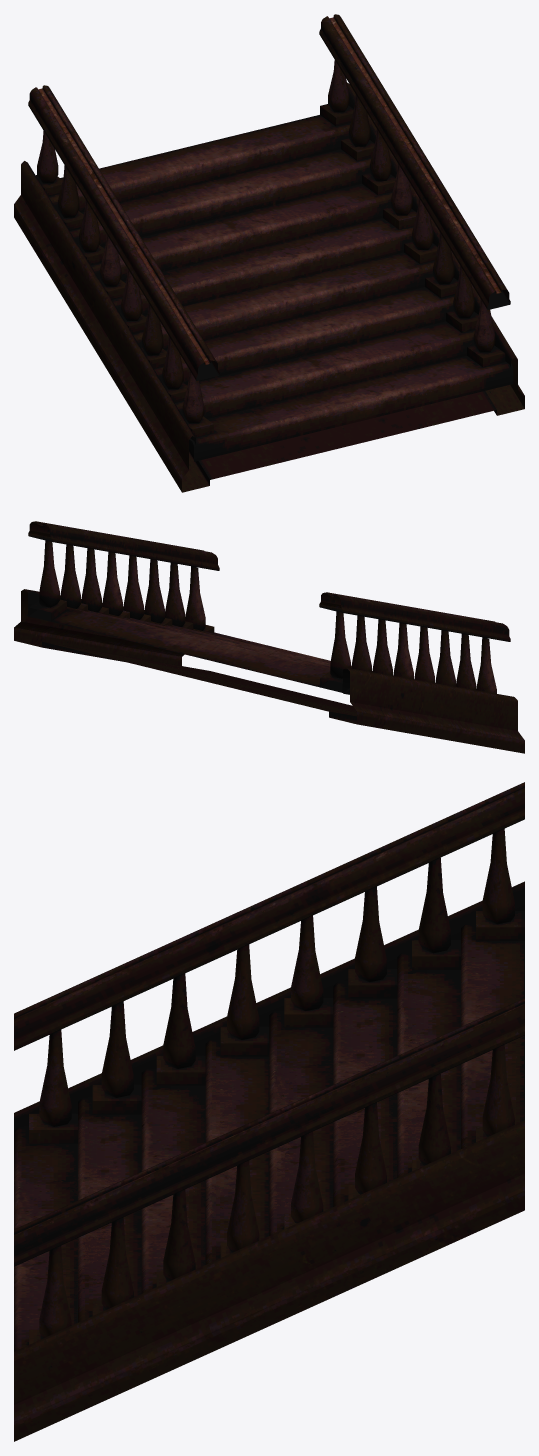
The picture shows the model from 3 angles, top to bottom: view 1: azimuth 30°, elevation 25°; view 2: azimuth 150°, elevation 25°; view 3: azimuth 270°, elevation 25°; orthographic projection. The views are drawn at different scales.
Parts seen in each view (by area): view 1: mansionbase_stairs; view 2: mansionbase_stairs; view 3: mansionbase_stairs.
Part boxes in pixels (bbox=[...]): mansionbase_stairs: bbox=[14, 14, 524, 492]; mansionbase_stairs: bbox=[14, 521, 524, 753]; mansionbase_stairs: bbox=[14, 782, 524, 1441].
Size of what is drawn, in the model's own units: 4.71 by 3.64 by 4.
